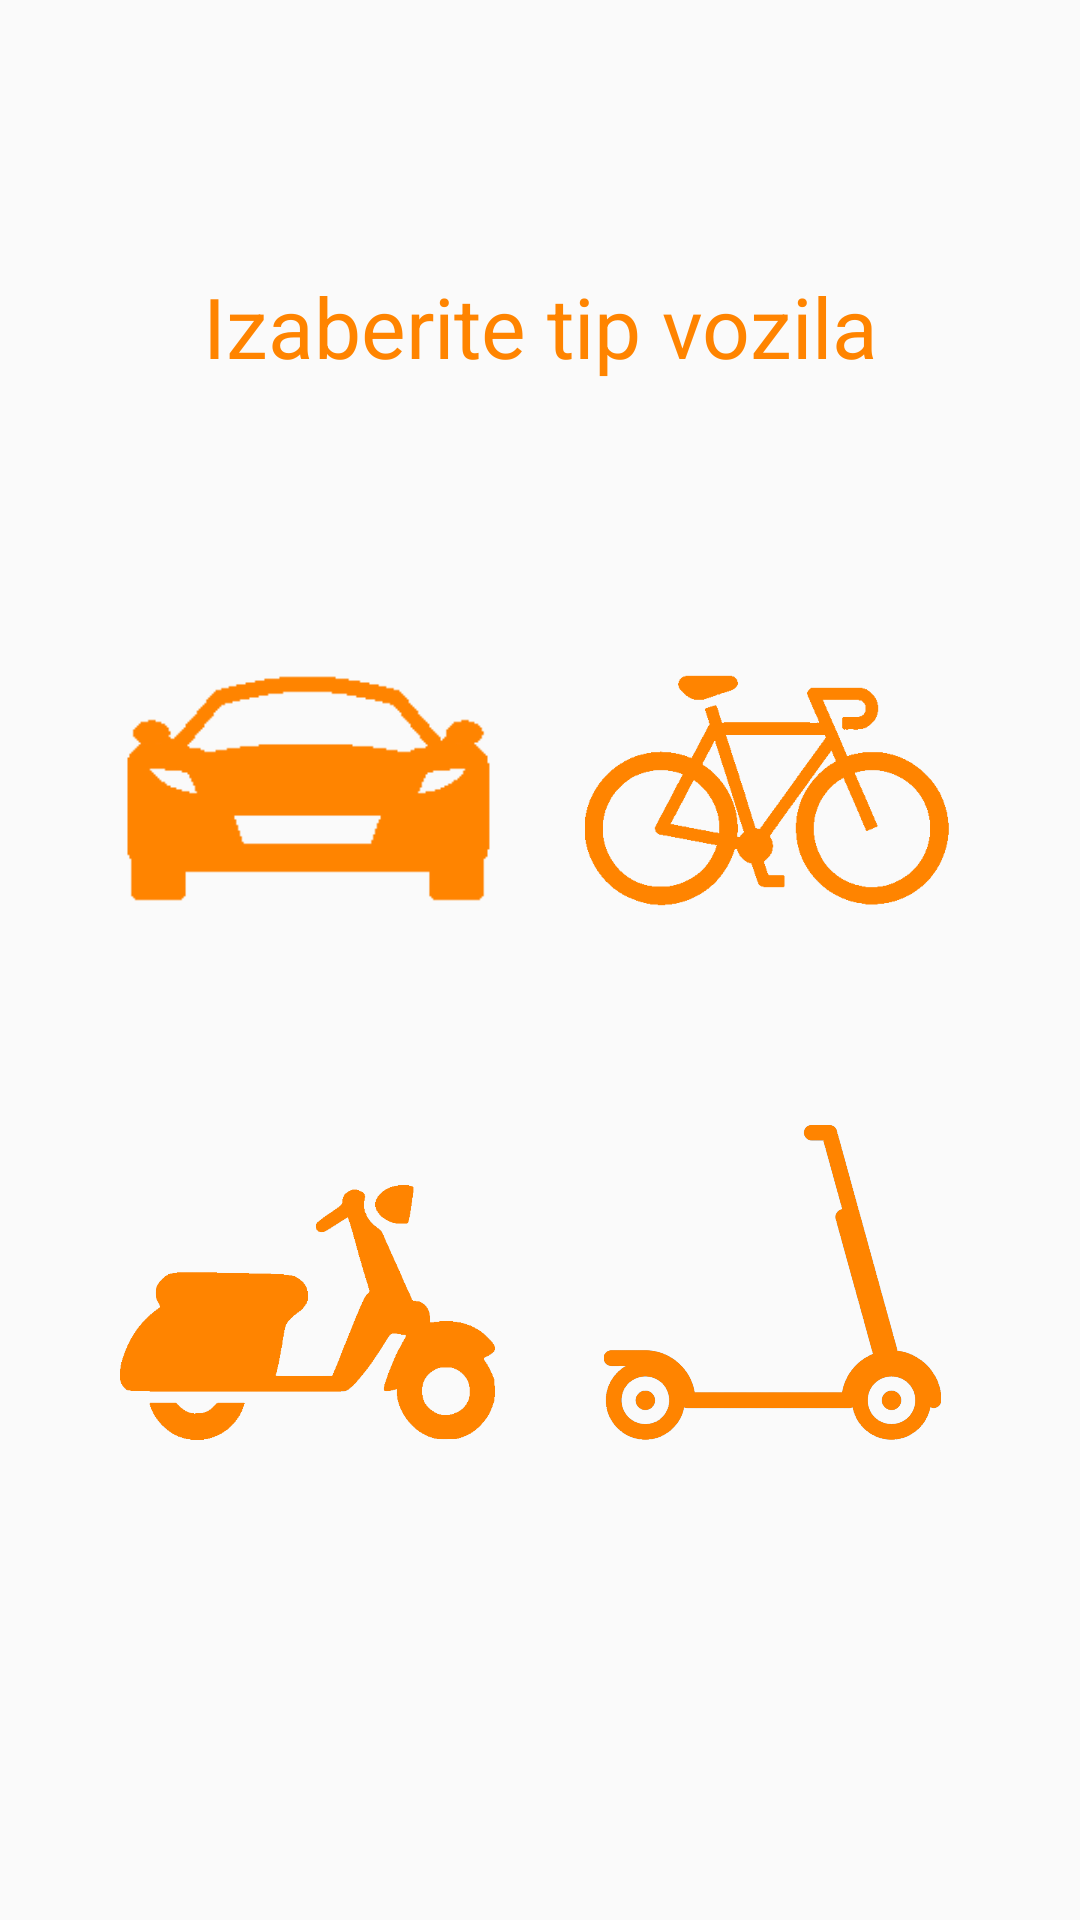

Named icons in this screenshot (1080 x 1920) and their centers, point (x, y):
trotinet: point (772, 1282)
